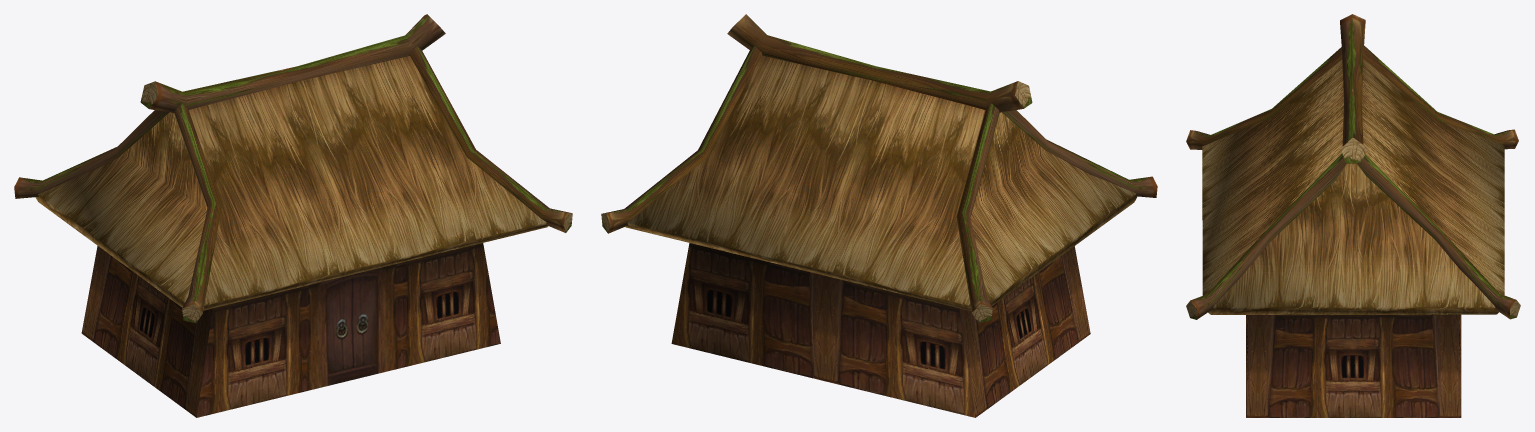
Rendered from environment_Building_caowu_001_a.FBX.
3 renders of one model, left to right at view 1: azimuth 30°, elevation 25°; view 2: azimuth 150°, elevation 25°; view 3: azimuth 270°, elevation 25°, orthographic. The views are drawn at different scales.
Visible parts, largest first — view 1: environment_Building_caowu_001_b, environment_Building_caowu_001_a, environment_Building_caowu_001_c, environment_Building_caowu_001_d; view 2: environment_Building_caowu_001_b, environment_Building_caowu_001_a, environment_Building_caowu_001_c; view 3: environment_Building_caowu_001_b, environment_Building_caowu_001_a, environment_Building_caowu_001_c.
Part boxes in pixels (box(x1,y1,x2,y2)): environment_Building_caowu_001_b: box(35, 56, 548, 310); environment_Building_caowu_001_a: box(81, 243, 500, 417); environment_Building_caowu_001_c: box(14, 14, 572, 323); environment_Building_caowu_001_d: box(303, 264, 402, 391); environment_Building_caowu_001_b: box(625, 55, 1137, 311); environment_Building_caowu_001_a: box(671, 243, 1090, 417); environment_Building_caowu_001_c: box(601, 14, 1157, 322); environment_Building_caowu_001_b: box(1202, 58, 1504, 314); environment_Building_caowu_001_a: box(1246, 314, 1461, 417); environment_Building_caowu_001_c: box(1186, 14, 1520, 319).
Size of the model in its own units: 487 by 346 by 385.
4 materials, 4 textured.
